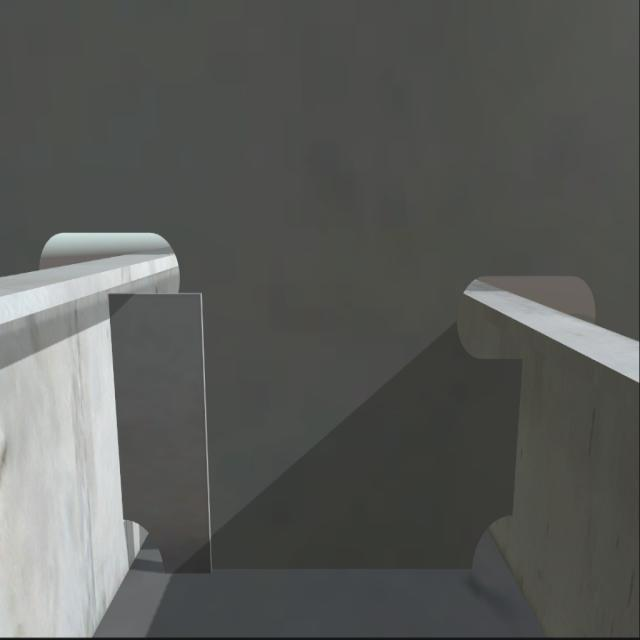fillet_hole: (468, 503, 547, 588), (99, 512, 168, 586)
fillet_yong_jeop_jang: (163, 554, 474, 582)
longi_yong_jeop_jang: (103, 291, 128, 528), (503, 359, 532, 517)
plate_CP01: (111, 288, 205, 580)
